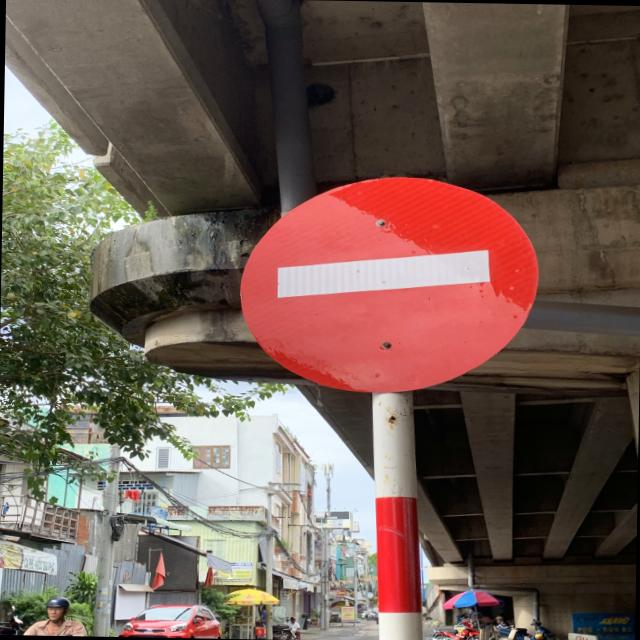Cam_Di_Nguoc_Chieu: (240, 170, 548, 402)
